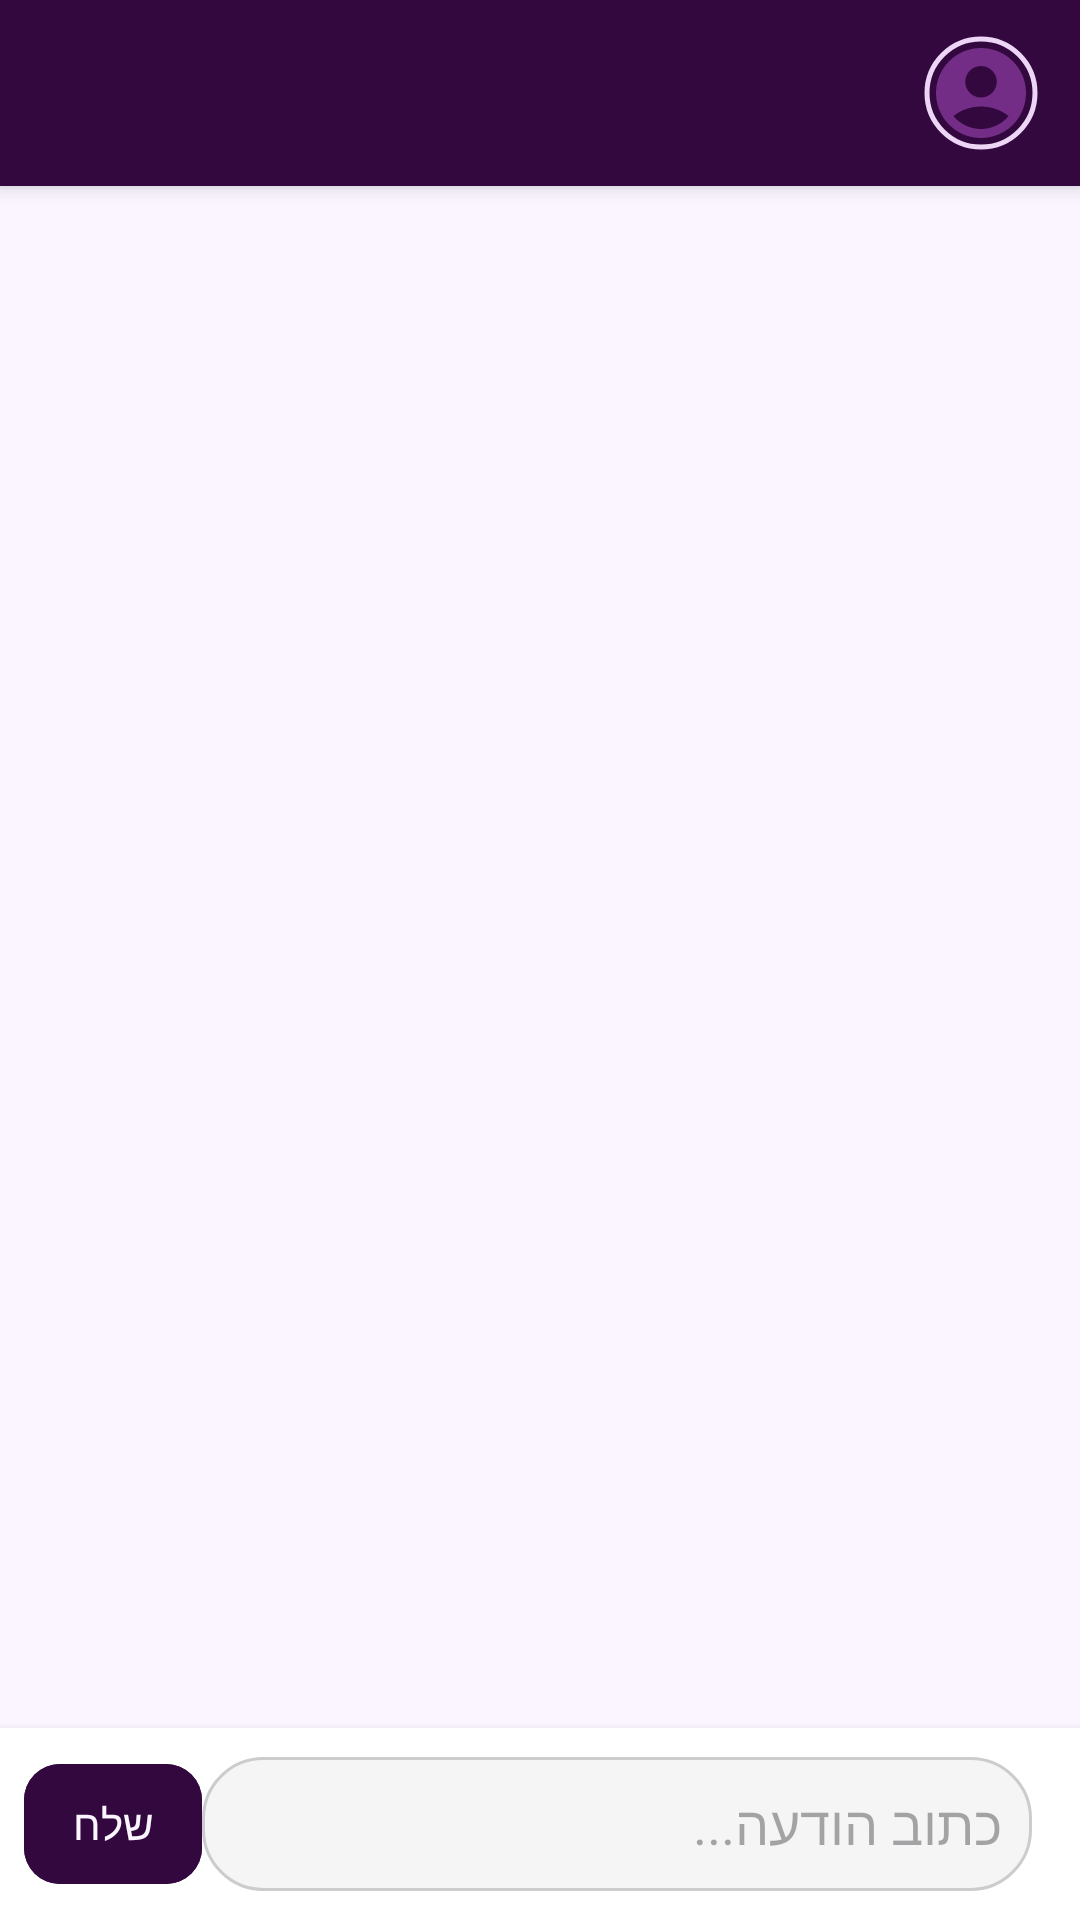

Where icons sit on this 1080 × 1920 app screen, as (left=x1, top=y1, right=x2, bottom=y2):
profile: (left=924, top=36, right=1038, bottom=150)
